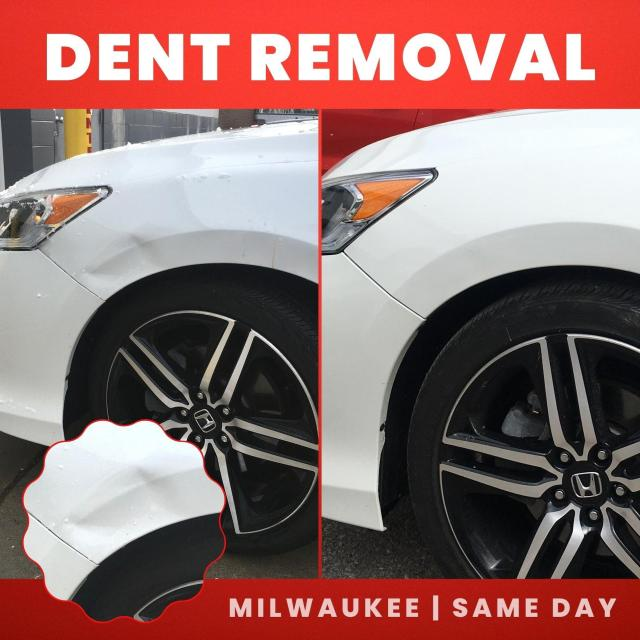dent: (73, 222, 167, 300)
